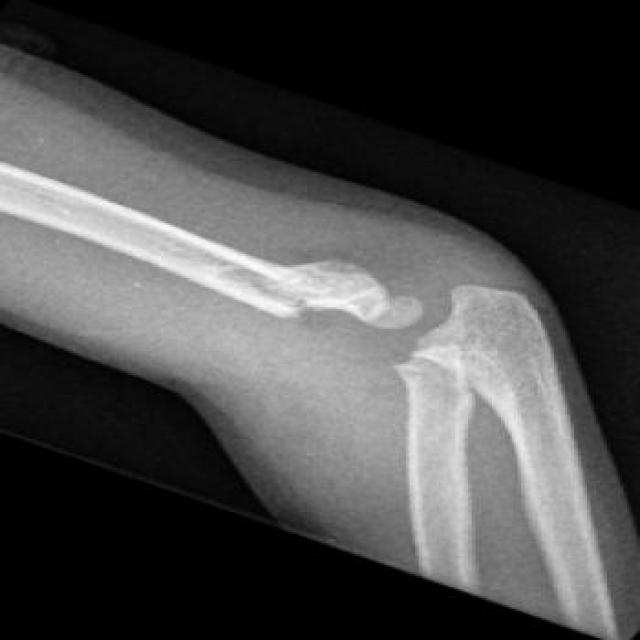Fracture: (247, 292, 486, 364)
